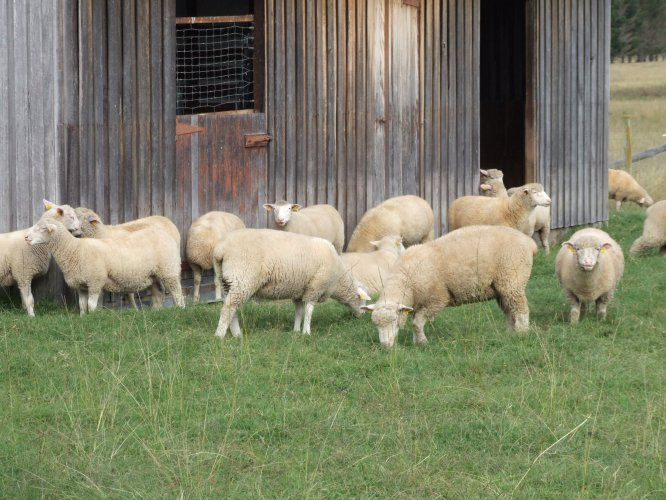sheep: (378, 231, 547, 361), (211, 229, 349, 353), (46, 218, 192, 324), (317, 162, 436, 260), (442, 166, 566, 260), (308, 239, 415, 344), (1, 195, 94, 304), (550, 224, 630, 331), (178, 206, 256, 292), (261, 176, 332, 251), (602, 162, 666, 209)
